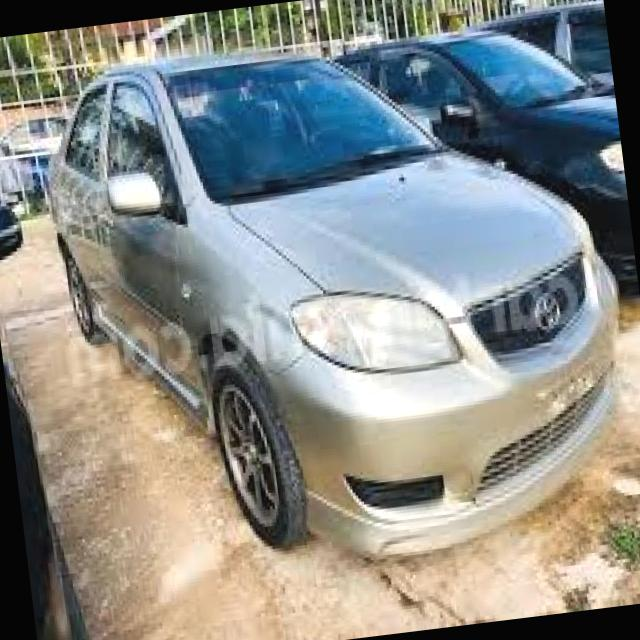ToyotaVios: (31, 3, 640, 594)
